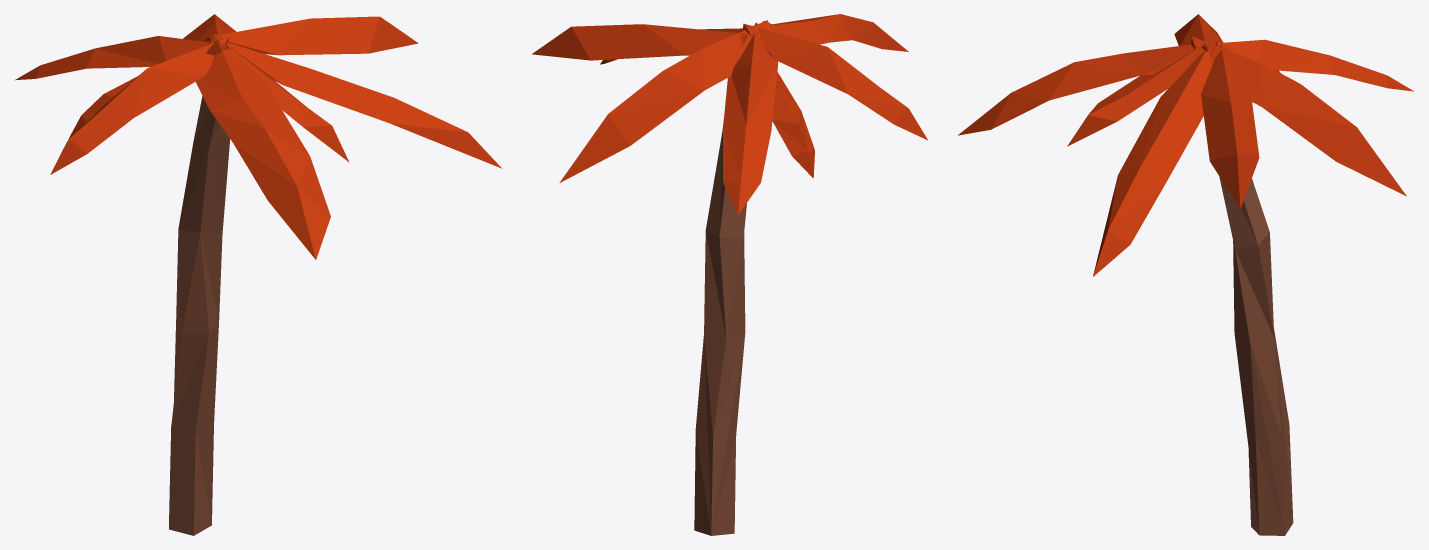
File: Tree_13_summer_red_mat.fbx
3 renders of one model, left to right at view 1: azimuth 30°, elevation 25°; view 2: azimuth 150°, elevation 25°; view 3: azimuth 270°, elevation 25°, orthographic. The views are drawn at different scales.
Visible parts, largest first — view 1: Tree_13_summer_red_mat; view 2: Tree_13_summer_red_mat; view 3: Tree_13_summer_red_mat.
Part boxes in pixels (box(x1,y1,x2,y2)): Tree_13_summer_red_mat: box(15, 14, 502, 535); Tree_13_summer_red_mat: box(532, 14, 927, 535); Tree_13_summer_red_mat: box(958, 14, 1414, 535).
Size of the model in its own units: 189 by 233 by 198.
